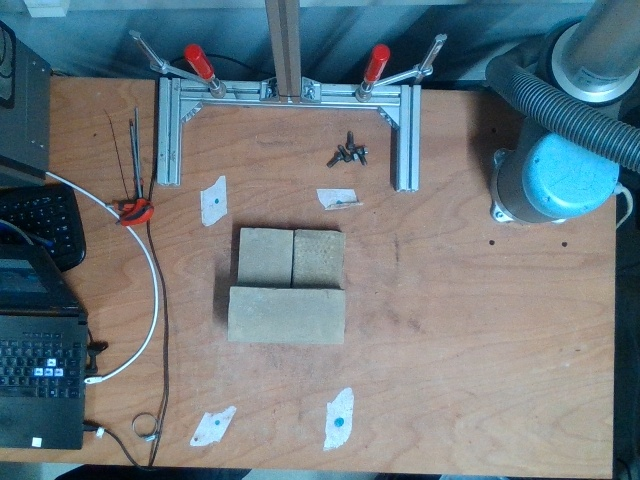brick: (227, 287, 347, 344)
